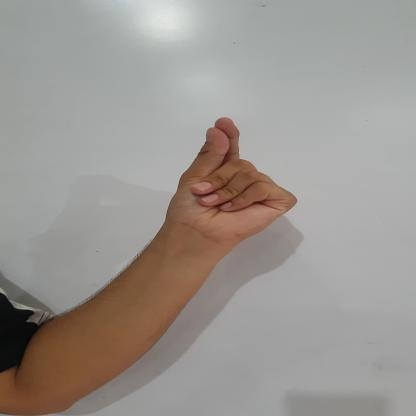R: (146, 110, 312, 246)
